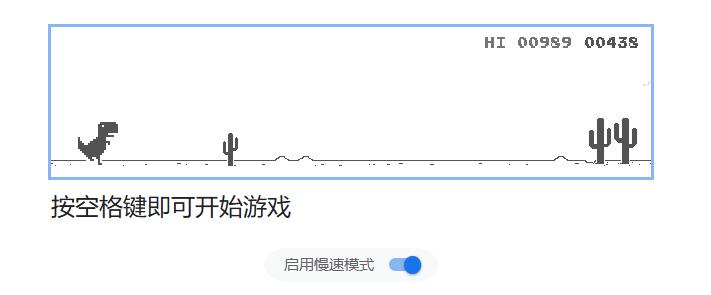cactus: (588, 116, 639, 166), (221, 130, 240, 169)
dino: (78, 119, 118, 167)
